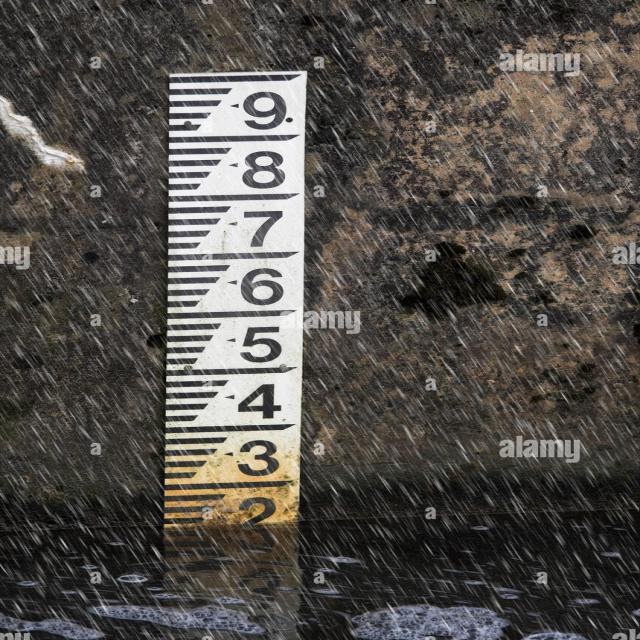ruler: (142, 63, 336, 543)
value: (229, 377, 291, 430), (234, 260, 294, 312), (236, 84, 296, 136), (236, 144, 295, 194), (231, 434, 291, 481), (234, 321, 292, 369), (239, 204, 287, 253)
